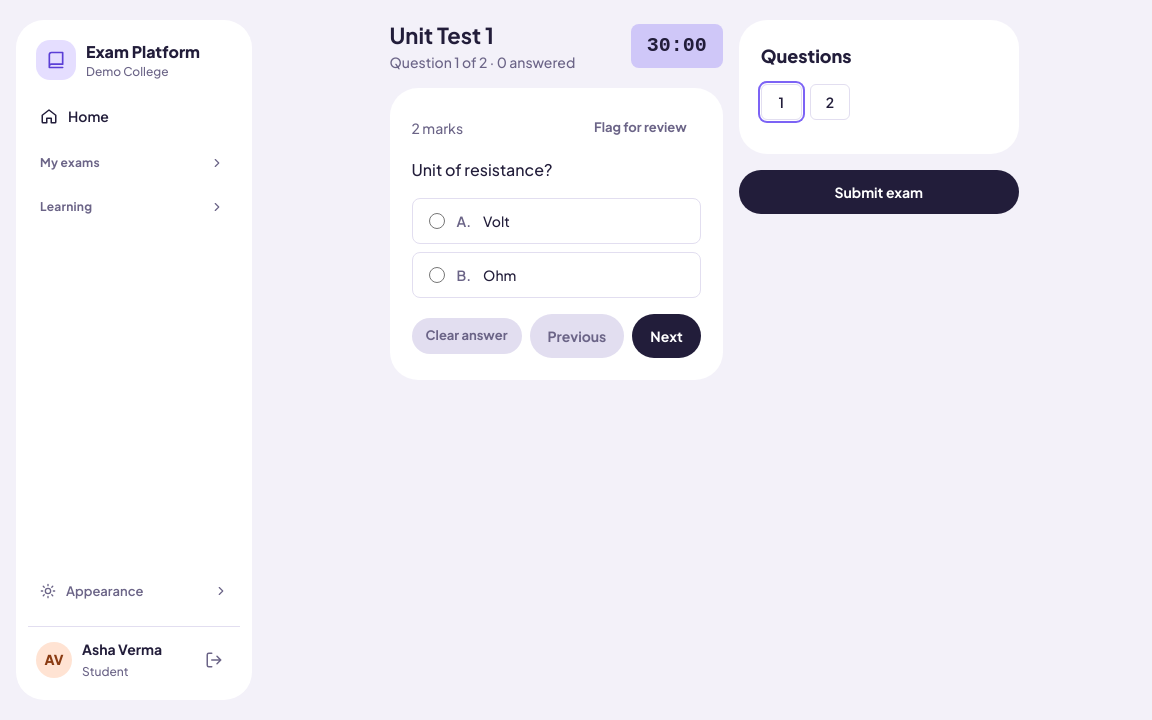
student exam screen › a failed save is shown and can be retried
The image size is (1152, 720).
Click the radio button labelled "A. Volt" at [436, 221], box 428,213 -> 444,229
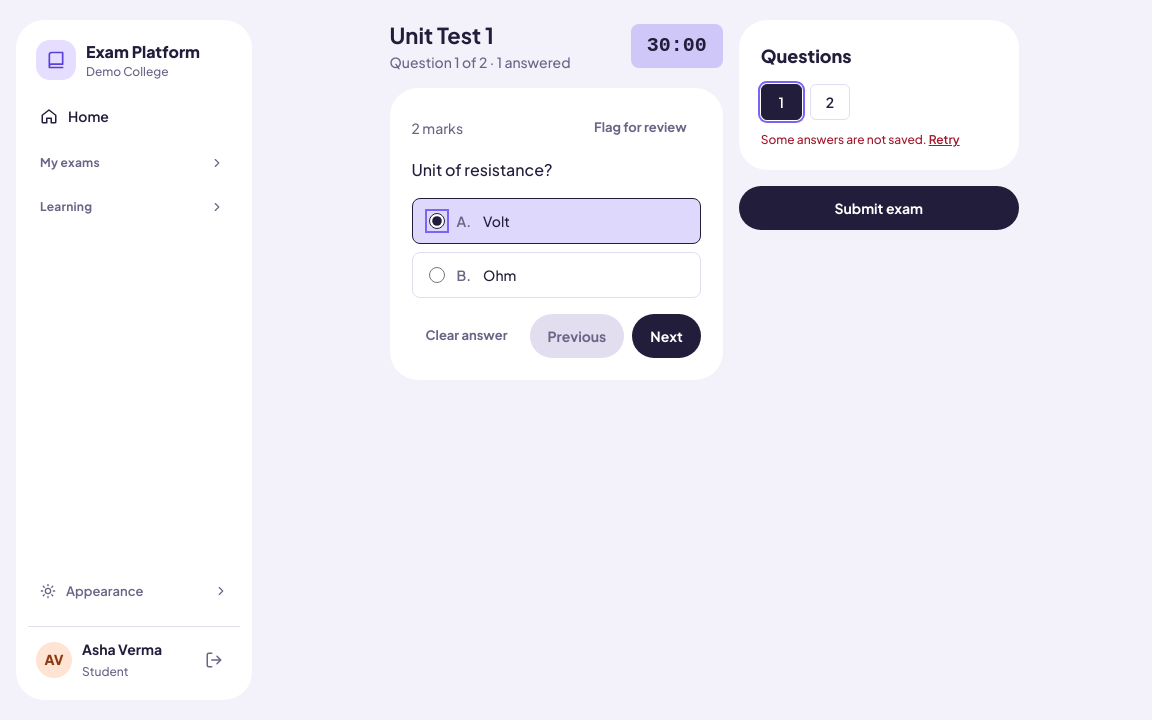
Now the text "Some answers are not saved. Retry" is shown, box 761,132 -> 960,147
Click the button "Retry" at [944, 140], box 929,132 -> 960,148
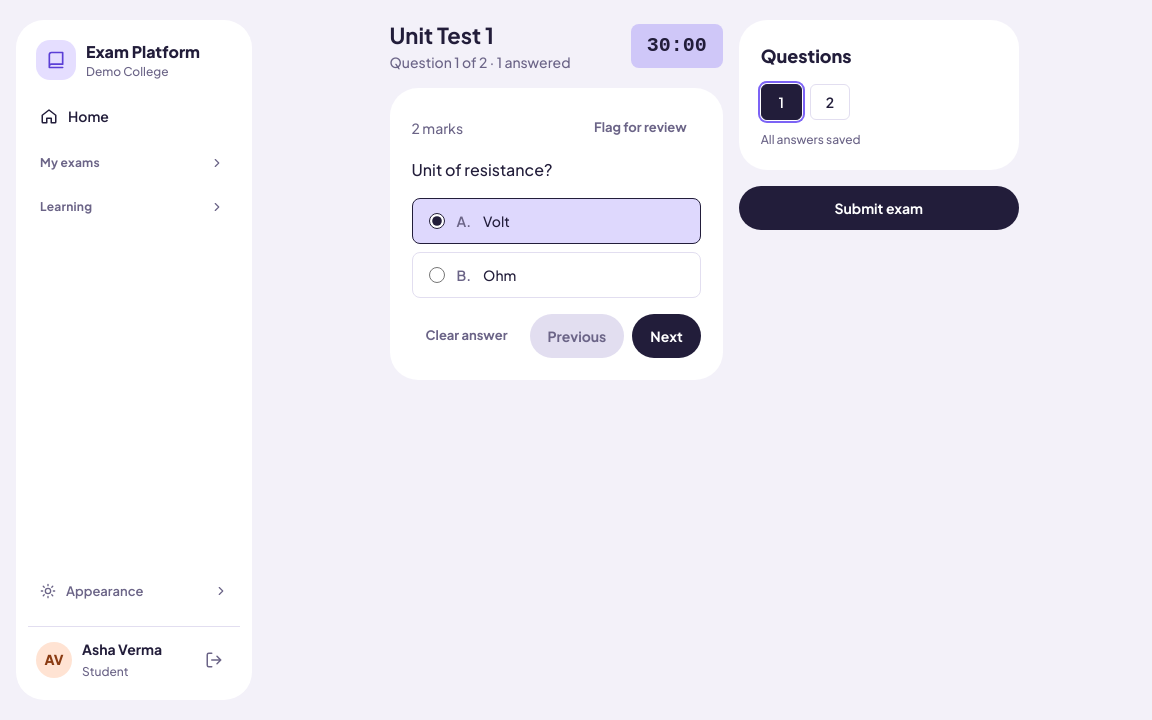
Now the text "All answers saved" is shown, box 761,132 -> 861,147
